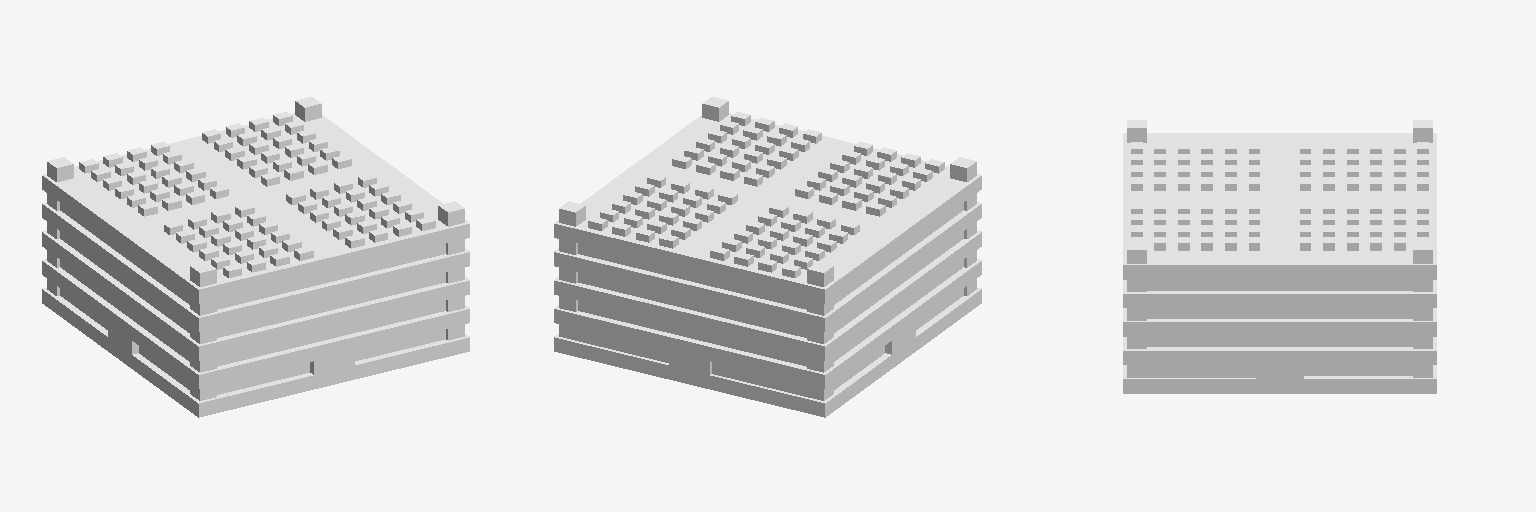
The model's file is Asset-15.obj.
The picture shows the model from 3 angles: view 1: azimuth 30°, elevation 25°; view 2: azimuth 150°, elevation 25°; view 3: azimuth 270°, elevation 25°; orthographic projection.
Visible parts, largest first — view 1: Asset-15; view 2: Asset-15; view 3: Asset-15.
Part boxes in pixels (x1,y1,x2,y2): Asset-15: (42, 97, 469, 417); Asset-15: (554, 97, 981, 417); Asset-15: (1123, 120, 1436, 393).
Size of the model in its own units: 80 by 40 by 80.